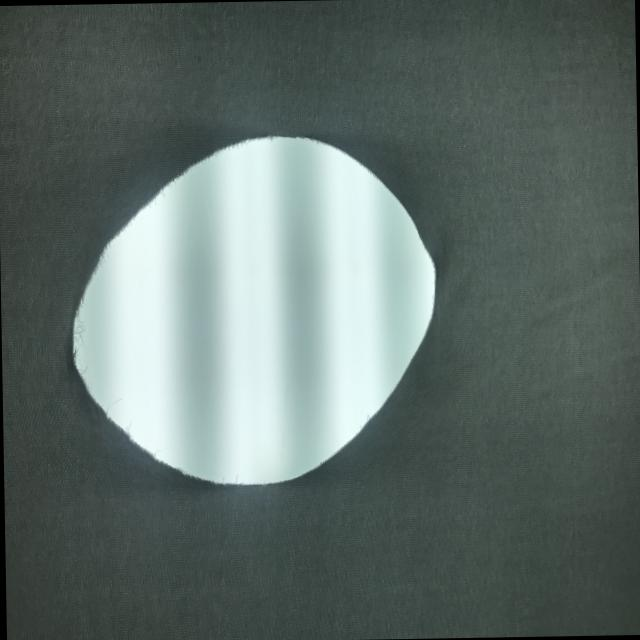hole: (64, 126, 444, 498)
